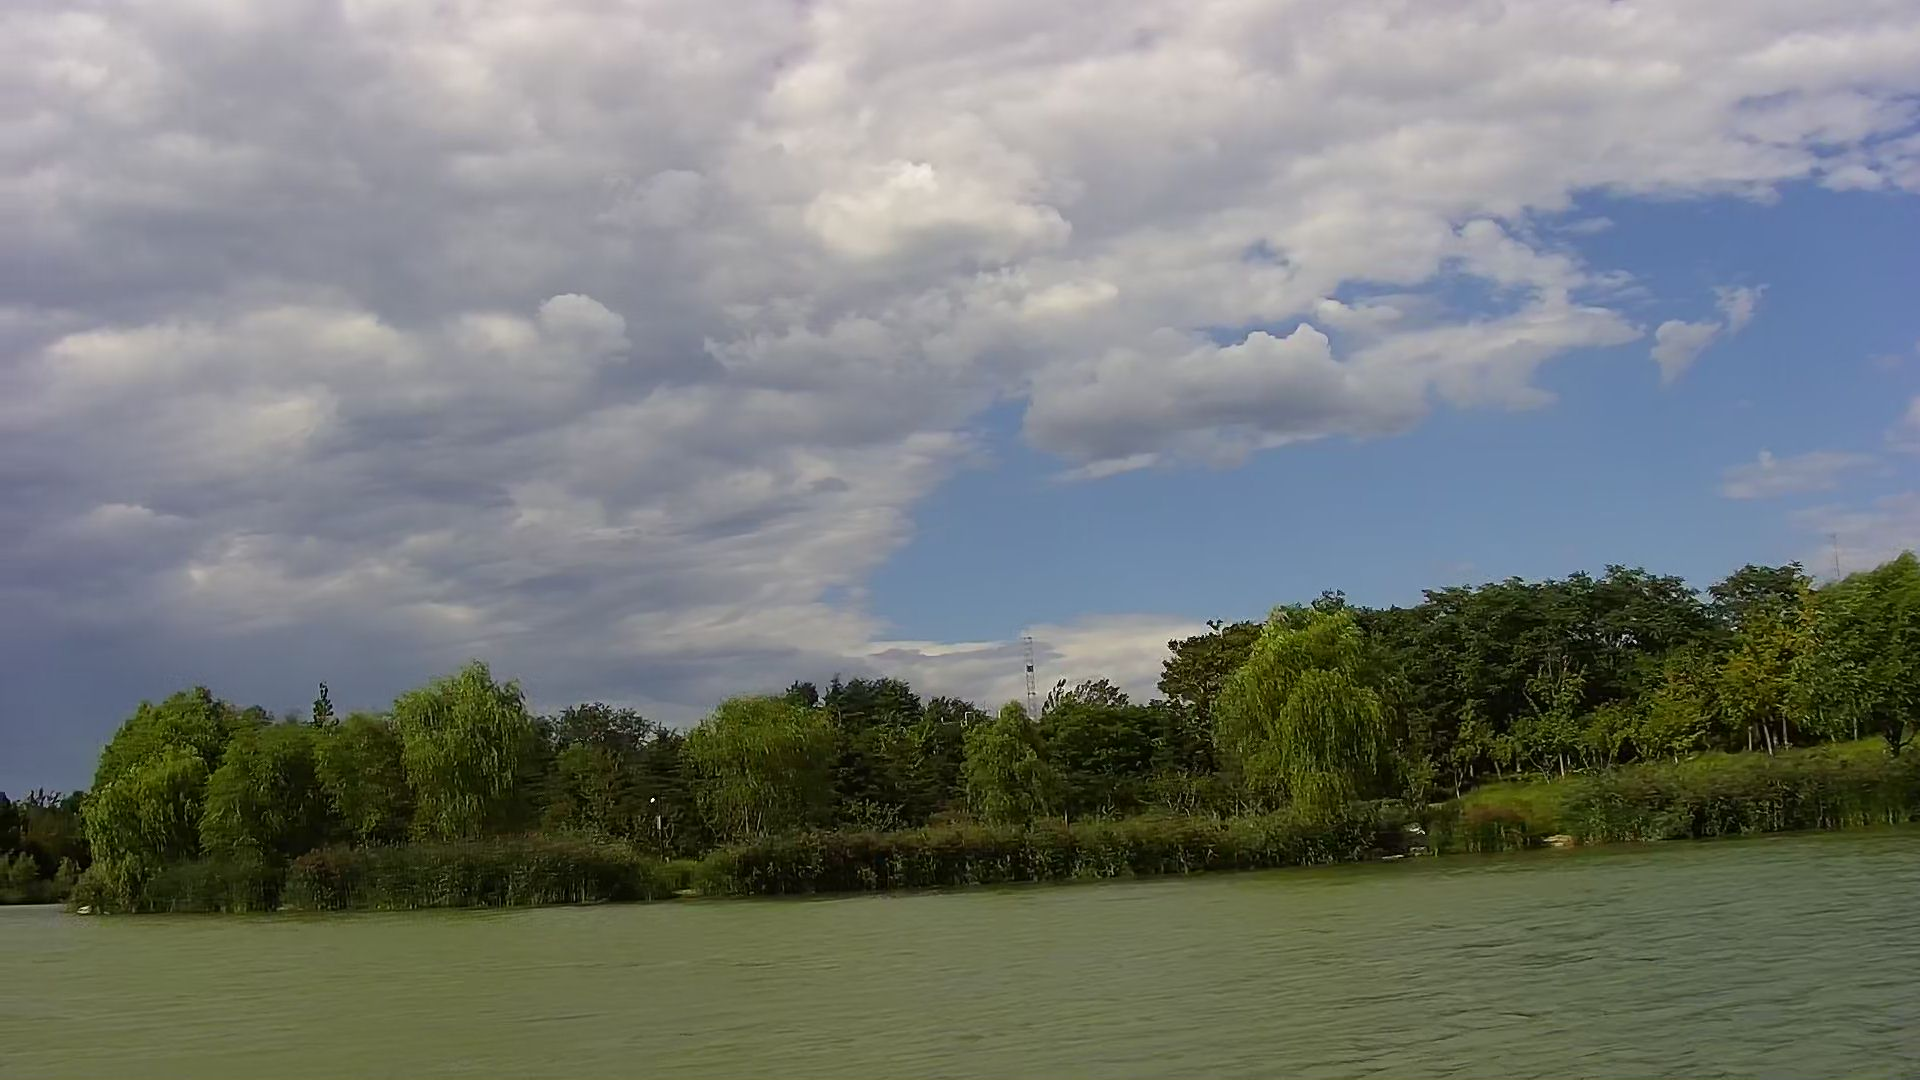rock: (1542, 832, 1577, 853)
